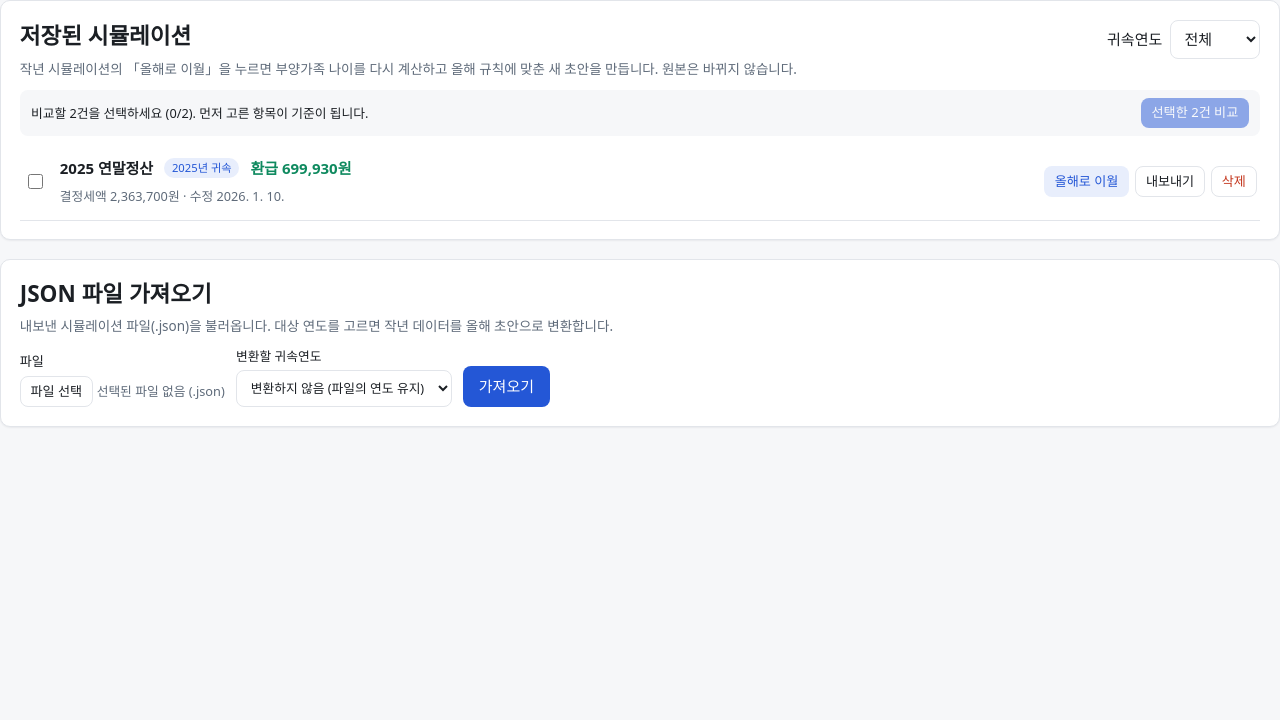
Scenario: SavedSimulationsPage › 삭제 확인 후 목록에서 제거한다
Click the button "삭제" at (1234, 182), box [1211, 166, 1256, 197]
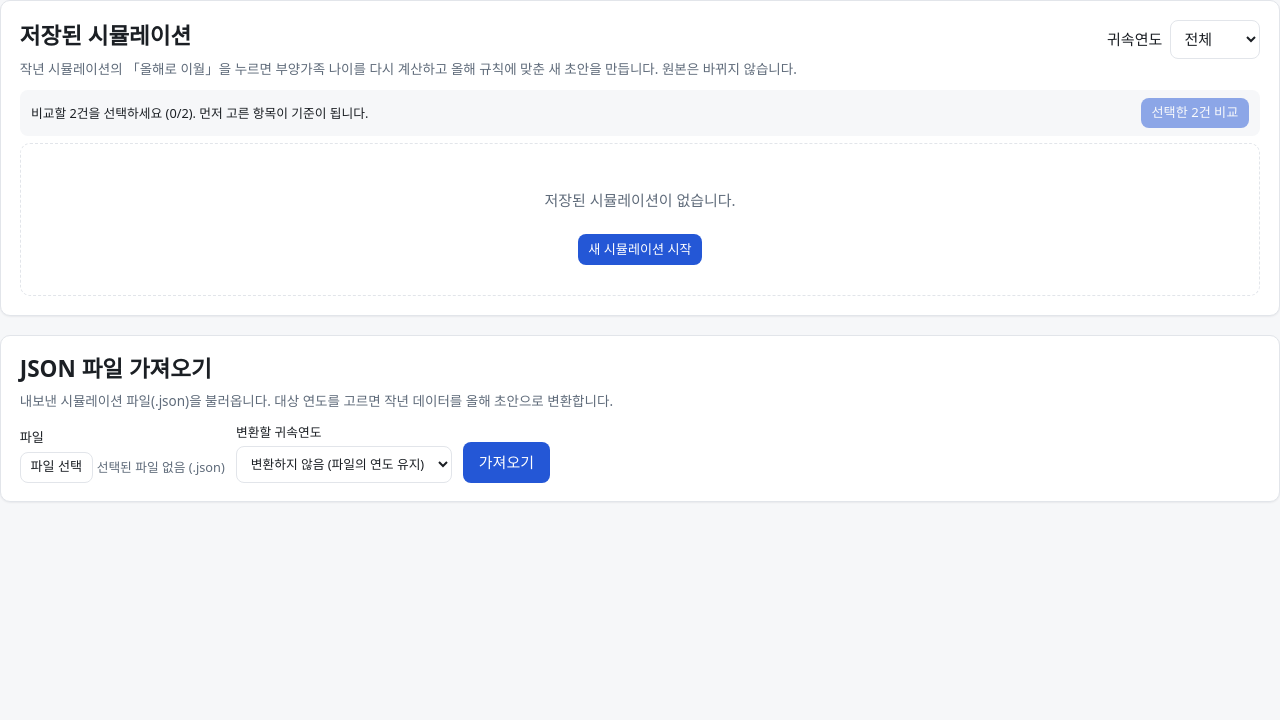
expect the text "저장된 시뮬레이션이 없습니다." is shown: met, box [544, 189, 736, 212]
